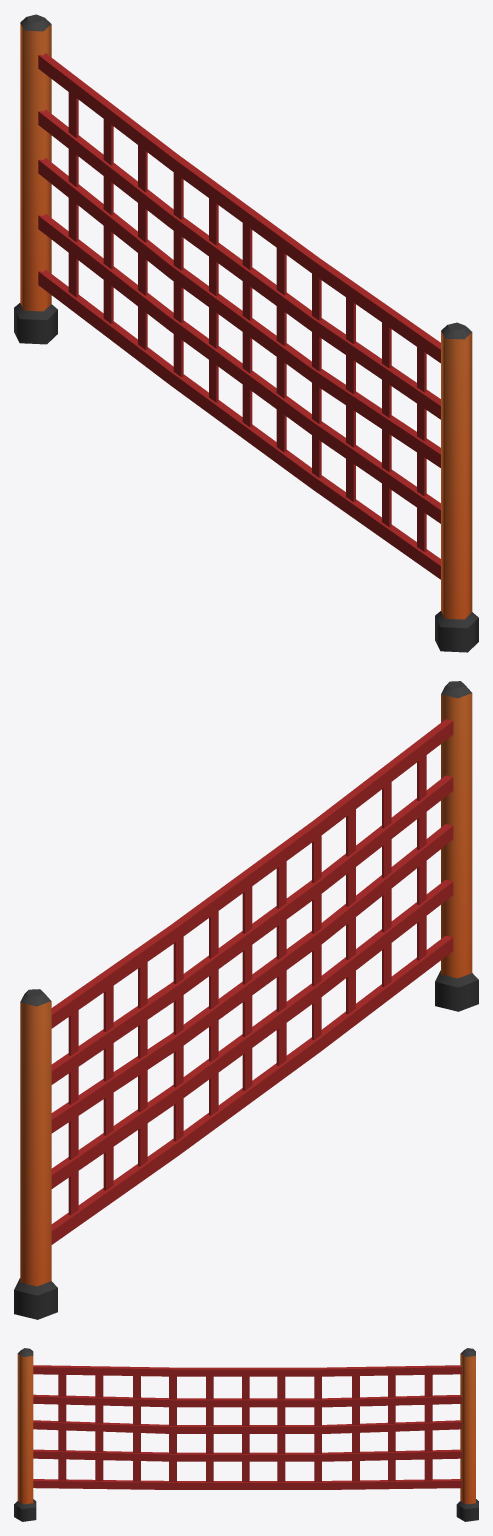
File: Barier_3_2.fbx
The picture shows the model from 3 angles, top to bottom: view 1: azimuth 30°, elevation 25°; view 2: azimuth 150°, elevation 25°; view 3: azimuth 270°, elevation 25°; orthographic projection. The views are drawn at different scales.
Visible parts, largest first — view 1: Barier_3_2; view 2: Barier_3_2; view 3: Barier_3_2.
Boxes of the visible parts, box(x1,y1,x2,y2) form: Barier_3_2: box(14, 14, 478, 652); Barier_3_2: box(14, 681, 478, 1319); Barier_3_2: box(14, 1348, 478, 1521).
Size of the model in its own units: 10.55 by 83.23 by 210.
